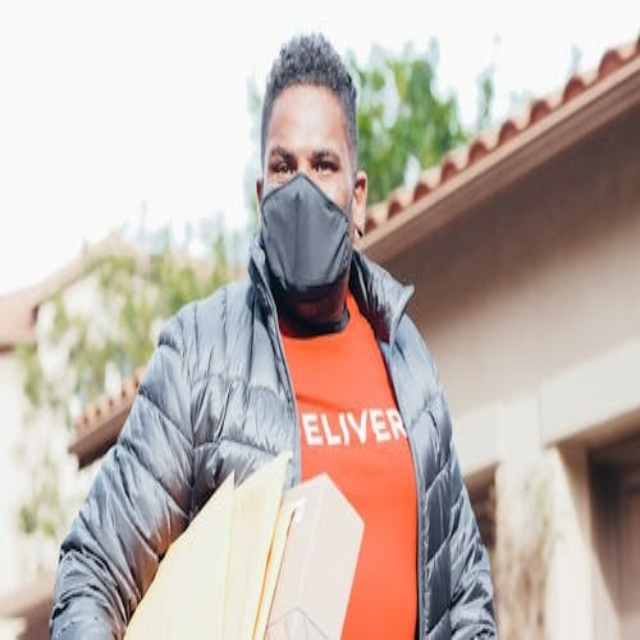Mascara: (259, 173, 351, 302)
Sin_gafas: (264, 127, 338, 188)
